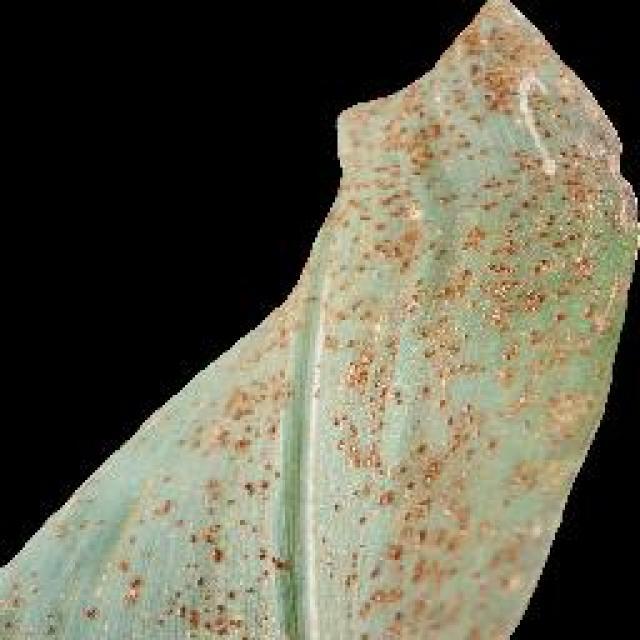Corn Common Rust: (238, 35, 572, 552)
